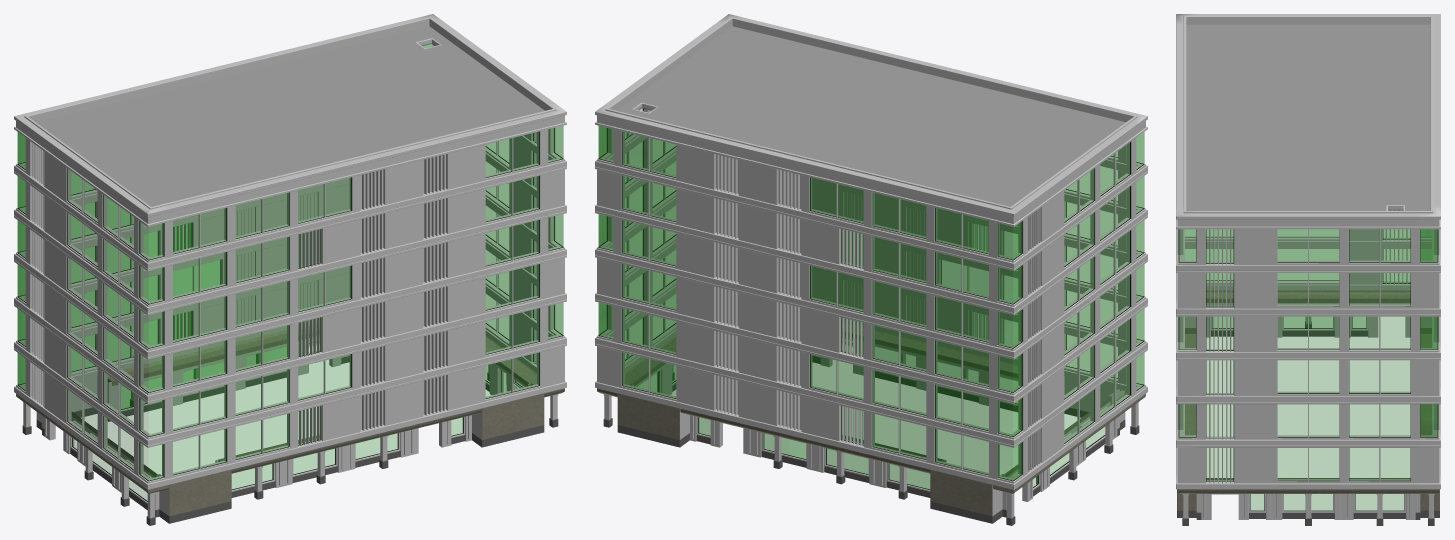
File: SM_Building13_V3.fbx
3 views of the same model, side by side, from view 1: azimuth 30°, elevation 25°; view 2: azimuth 150°, elevation 25°; view 3: azimuth 270°, elevation 25° (orthographic).
Visible parts, largest first — view 1: SM_Building13_V3; view 2: SM_Building13_V3; view 3: SM_Building13_V3.
Boxes of the visible parts, x1,y1,x2,y2 form: SM_Building13_V3: [14, 14, 566, 525]; SM_Building13_V3: [595, 14, 1147, 525]; SM_Building13_V3: [1176, 14, 1440, 525].
Bounding box in the file's own units: 4023 × 2906 × 2223.
